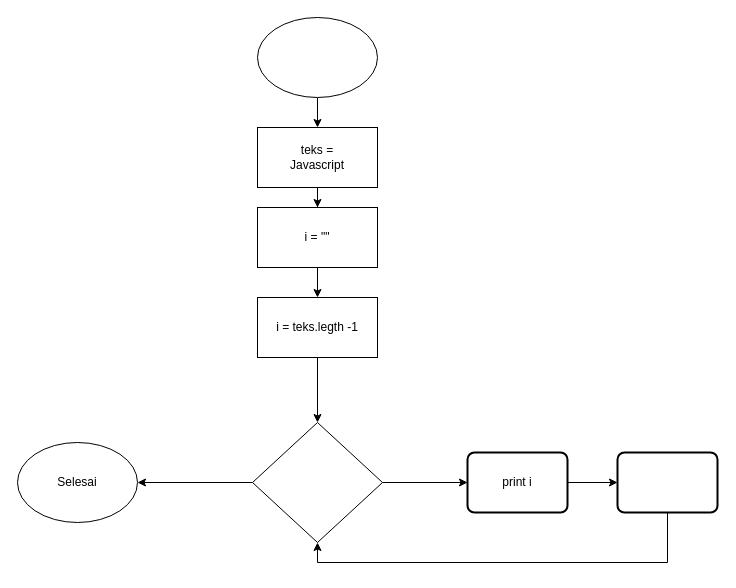
Image size: 736x588. Some labels were removed from this diagram. Here are the shapes that lost their labels. From the top down, the box of each, then its label:
(256, 16, 378, 98): Mulai
(252, 422, 382, 542): i >= 0
(616, 451, 718, 513): i --
